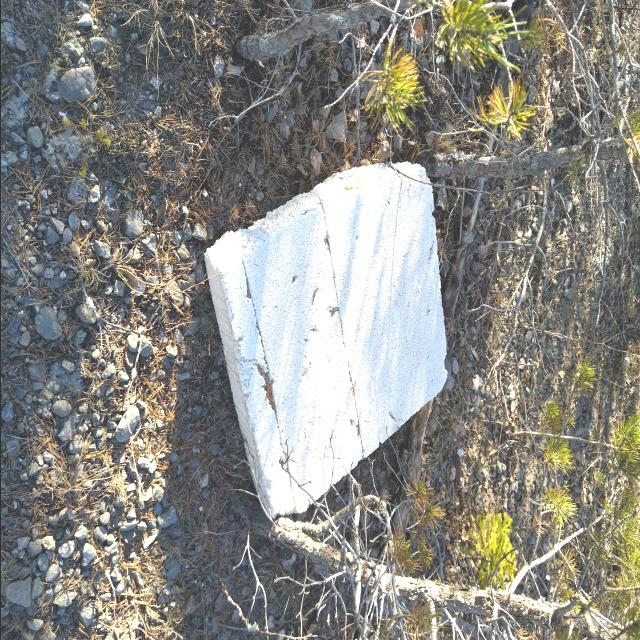Styrofoam piece: (203, 162, 447, 519)
